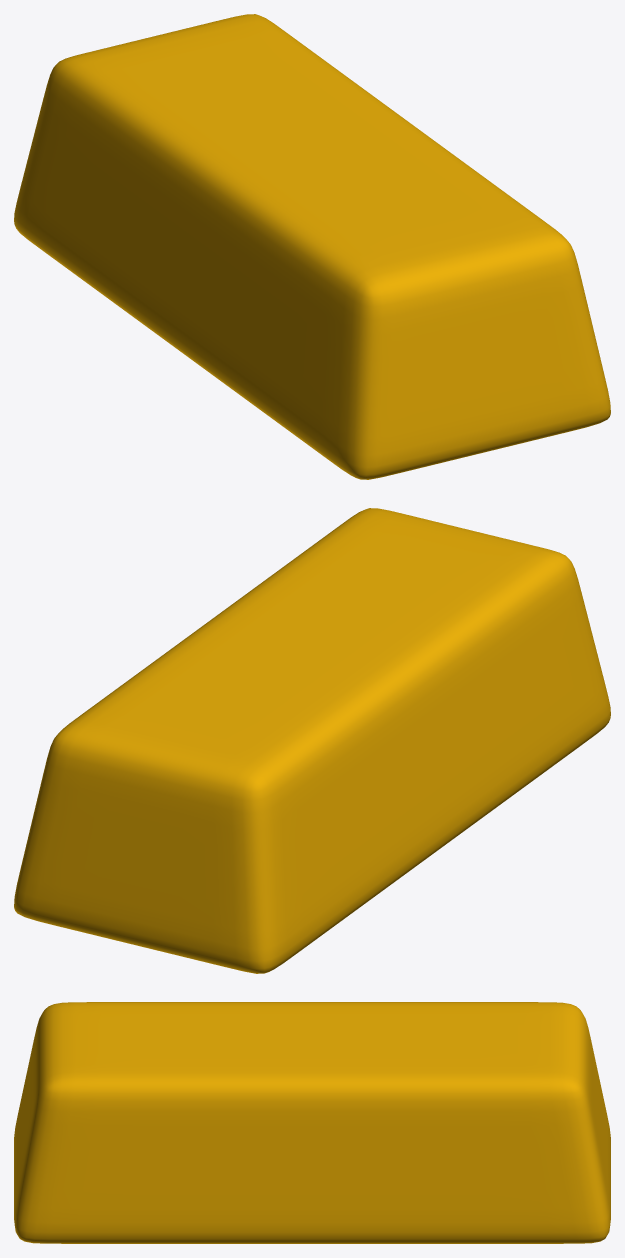
The picture shows the model from 3 angles, top to bottom: view 1: azimuth 30°, elevation 25°; view 2: azimuth 150°, elevation 25°; view 3: azimuth 270°, elevation 25°; orthographic projection. The views are drawn at different scales.
Visible parts, largest first — view 1: GoldBar; view 2: GoldBar; view 3: GoldBar.
Boxes of the visible parts, box(x1,y1,x2,y2) form: GoldBar: box(14, 14, 610, 479); GoldBar: box(14, 508, 610, 973); GoldBar: box(14, 1002, 610, 1243).
Bounding box in the file's own units: 0.2133 × 0.1443 × 0.4994.
